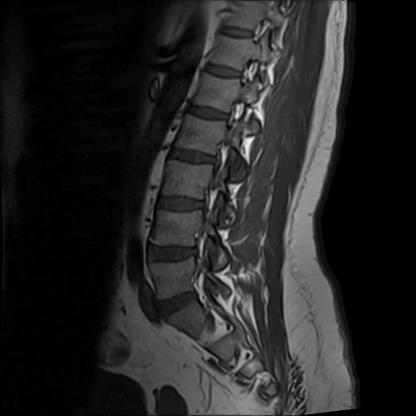Disc Bulgerotation: (145, 237, 202, 270), (152, 287, 202, 321)
